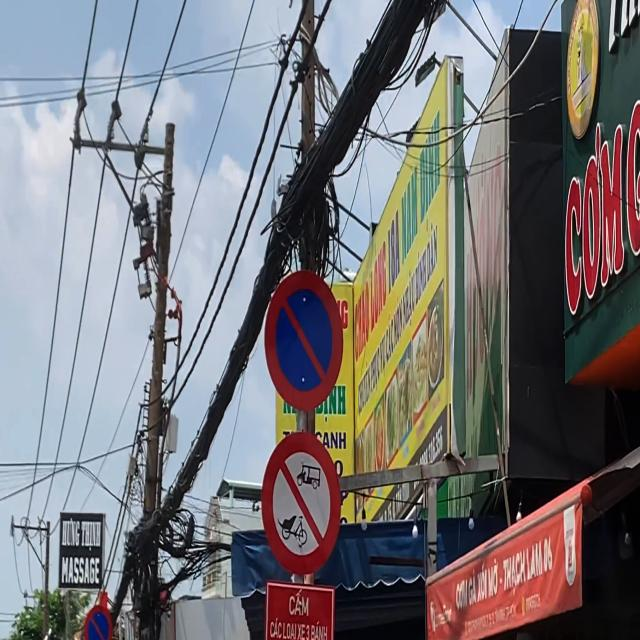Cam do: (263, 267, 345, 421), (83, 604, 113, 640)
